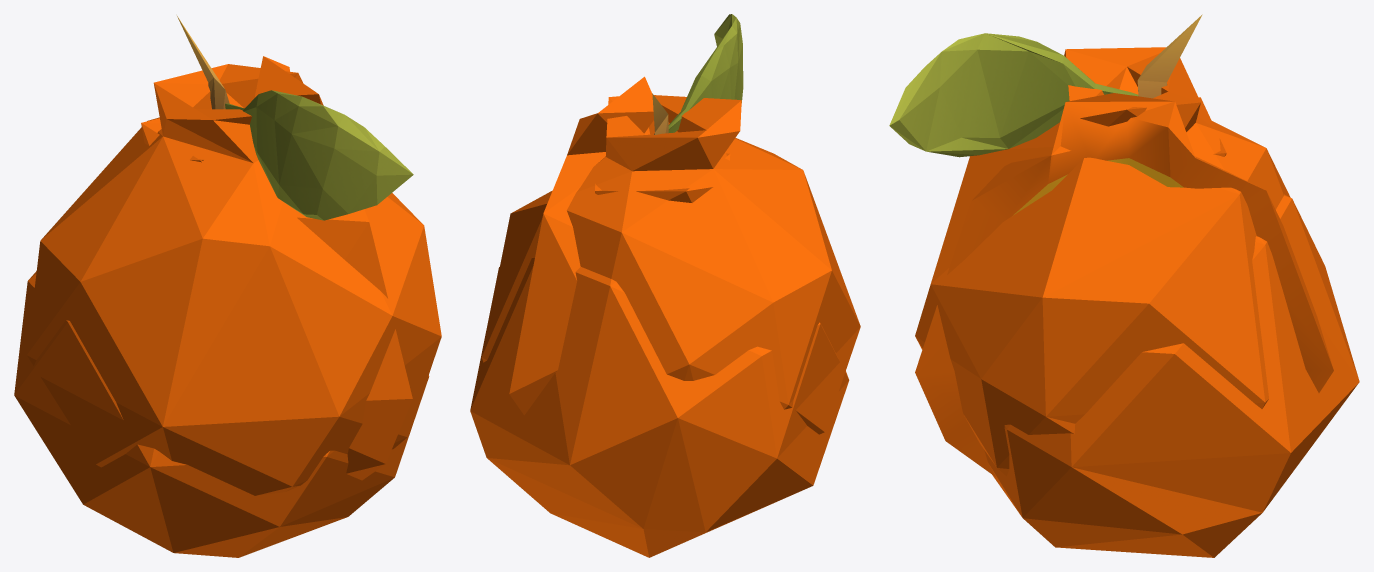
The model's file is Orange.fbx.
The picture shows the model from 3 angles, left to right: view 1: azimuth 30°, elevation 25°; view 2: azimuth 150°, elevation 25°; view 3: azimuth 270°, elevation 25°; orthographic projection. The views are drawn at different scales.
Parts seen in each view (by area): view 1: Orange_Cut, Orange_Base, Orange_Half; view 2: Orange_Base, Orange_Cut, Orange_Half; view 3: Orange_Cut, Orange_Base, Orange_Half.
Boxes of the visible parts, <box> form: Orange_Cut: <box>27,64,441,495</box>; Orange_Base: <box>14,16,429,557</box>; Orange_Half: <box>254,56,412,480</box>; Orange_Base: <box>470,14,849,557</box>; Orange_Cut: <box>481,95,860,434</box>; Orange_Half: <box>509,76,653,415</box>; Orange_Cut: <box>915,47,1290,476</box>; Orange_Base: <box>889,14,1359,557</box>; Orange_Half: <box>915,93,1333,476</box>.
Size of the model in its own units: 22.26 by 31.59 by 26.63.
1 material, 1 textured.
